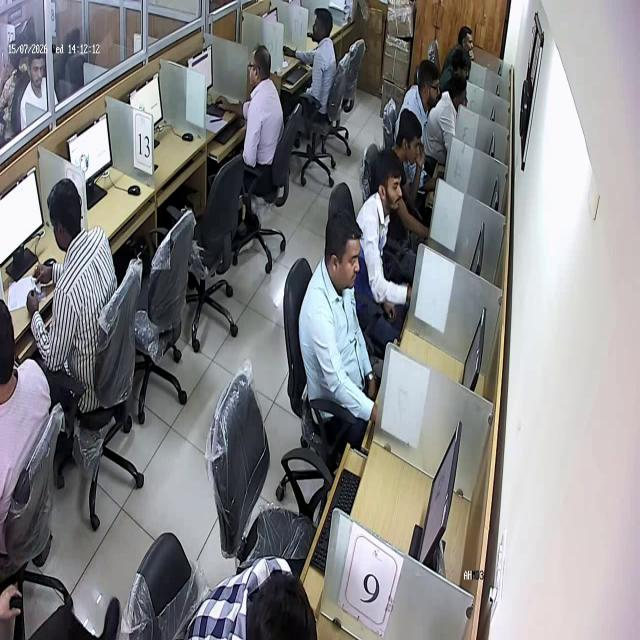paper-chit: (30, 277, 42, 293)
